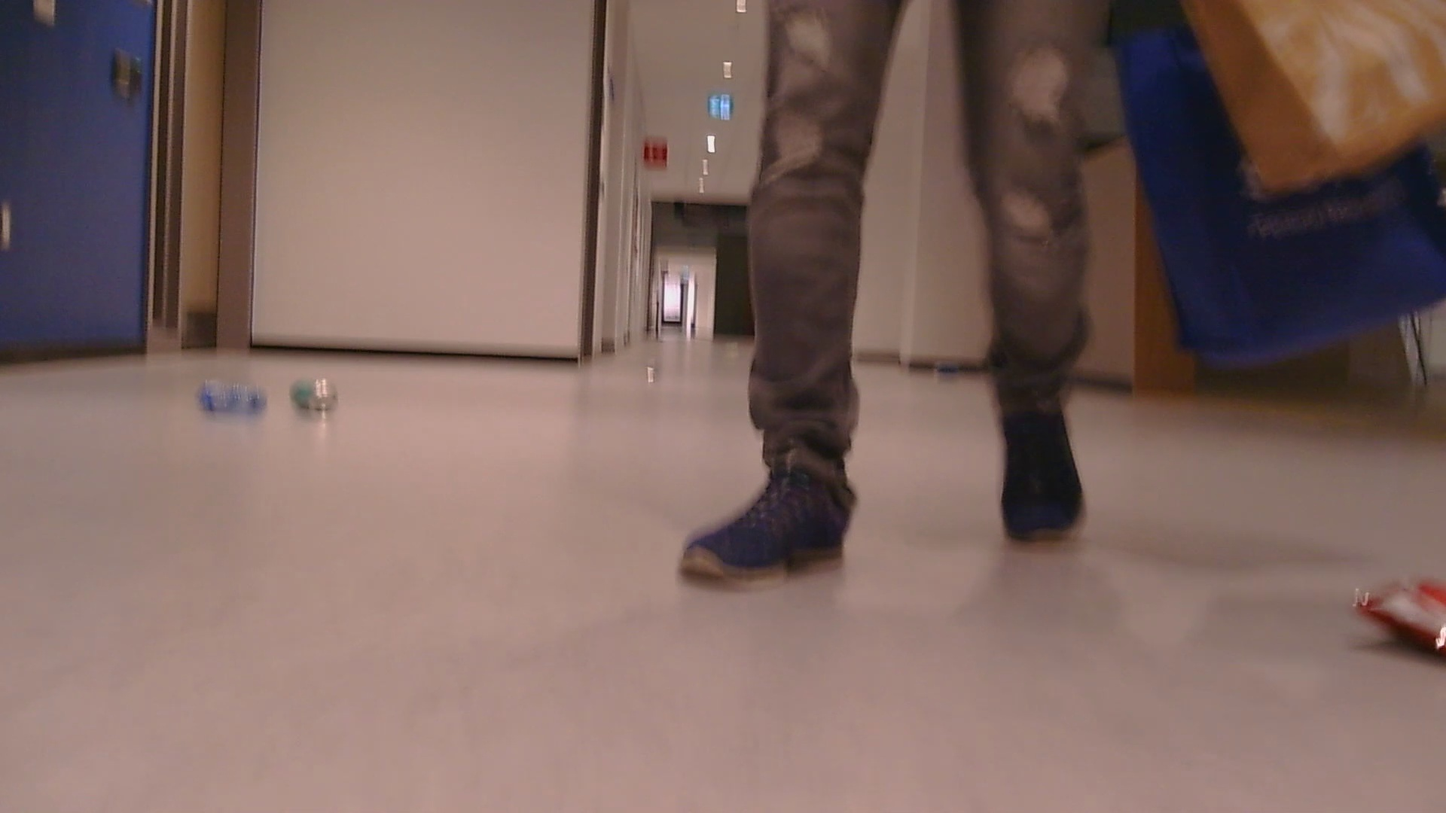carton: (1339, 554, 1446, 659), (187, 376, 280, 426), (292, 366, 351, 420)
